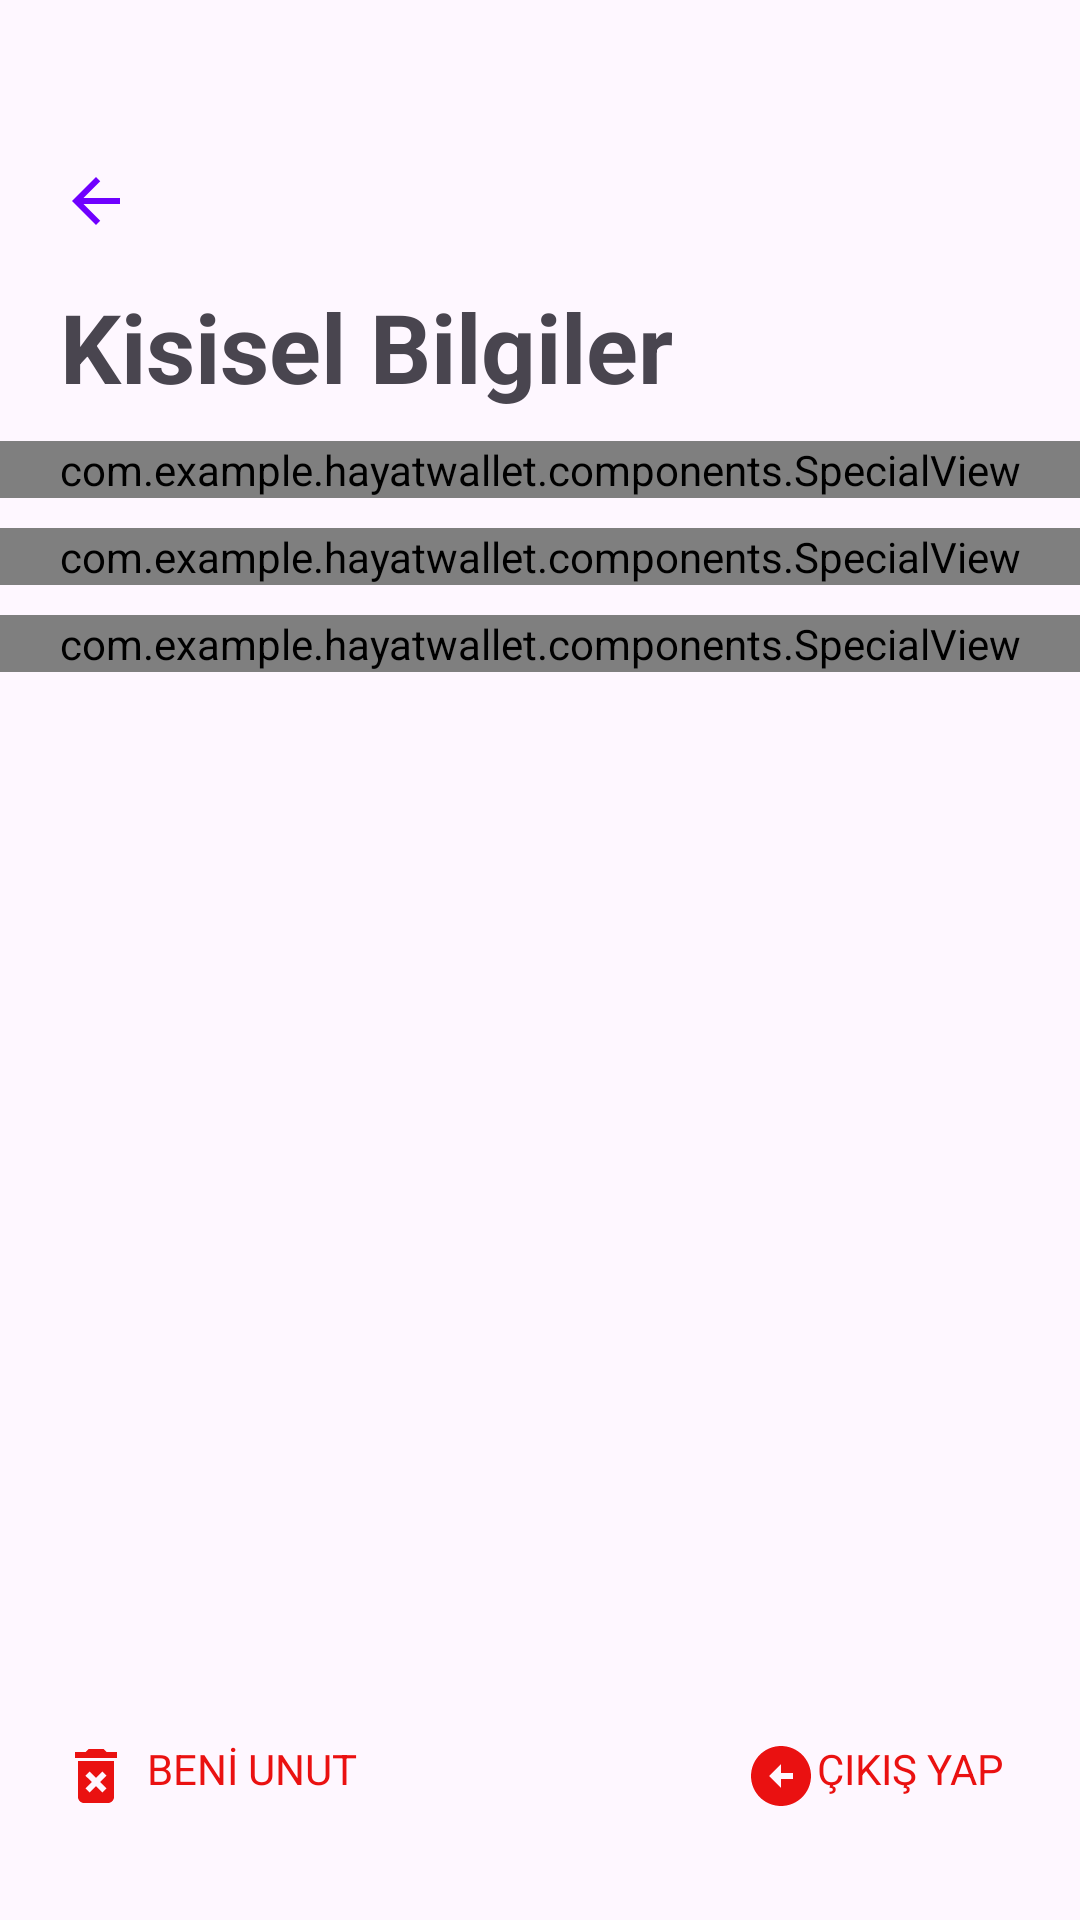

Screen size 1080x1920. Icon name, then its center in pixels as (x=x, y=y):
back arrow: (x=96, y=201)
delete: (x=96, y=1776)
